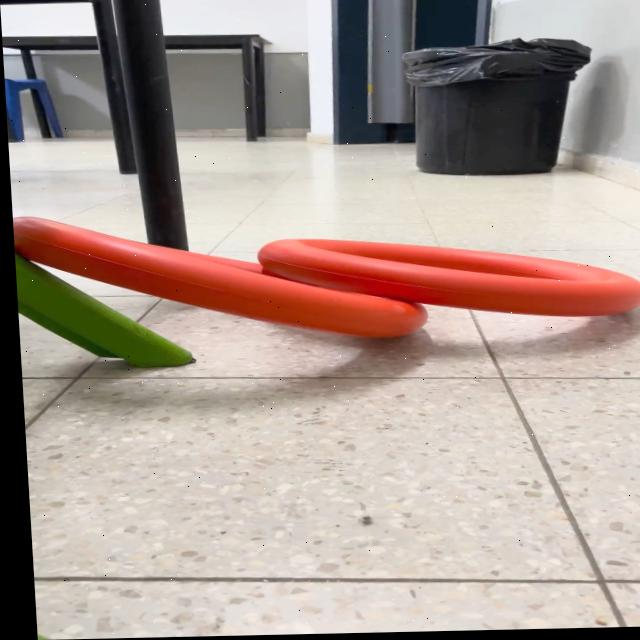note: (12, 208, 428, 350), (251, 231, 640, 328)
